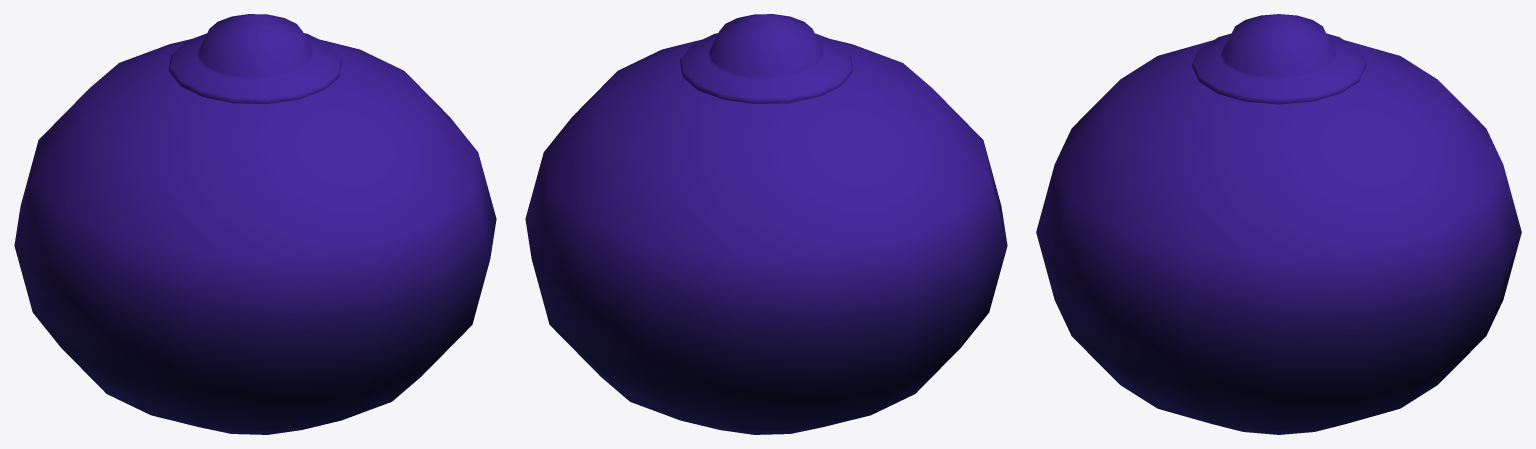
The model's file is pref_fx_greedent_fruit2_end_lv3.fbx.
3 renders of one model, left to right at view 1: azimuth 30°, elevation 25°; view 2: azimuth 150°, elevation 25°; view 3: azimuth 270°, elevation 25°, orthographic.
Visible parts, largest first — view 1: pref_fruit_green; view 2: pref_fruit_green; view 3: pref_fruit_green.
Part boxes in pixels (x1=…): pref_fruit_green: x1=14, y1=14, x2=496, y2=434; pref_fruit_green: x1=525, y1=14, x2=1007, y2=434; pref_fruit_green: x1=1036, y1=14, x2=1521, y2=434.
Bounding box in the file's own units: 0.6473 × 0.5805 × 0.6473.
